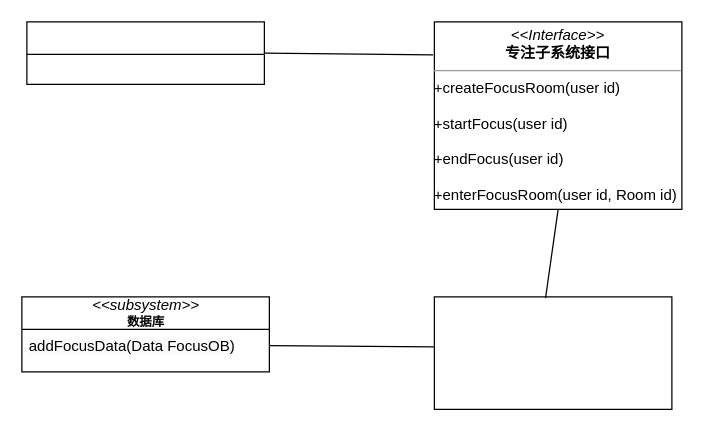
The diagram is 704 pixels wide and 431 high, and some of its shapes have lost their labels. The shapes that lost their labels are listed below. From the top down, each one's centre as x and y in pixels, then its label:
the point at 145,52: <<subsystem>> 专注模式MVP
the point at 552,352: <<Interface>> 数据库专注接口 + addFocusData(Data FocusOB)
